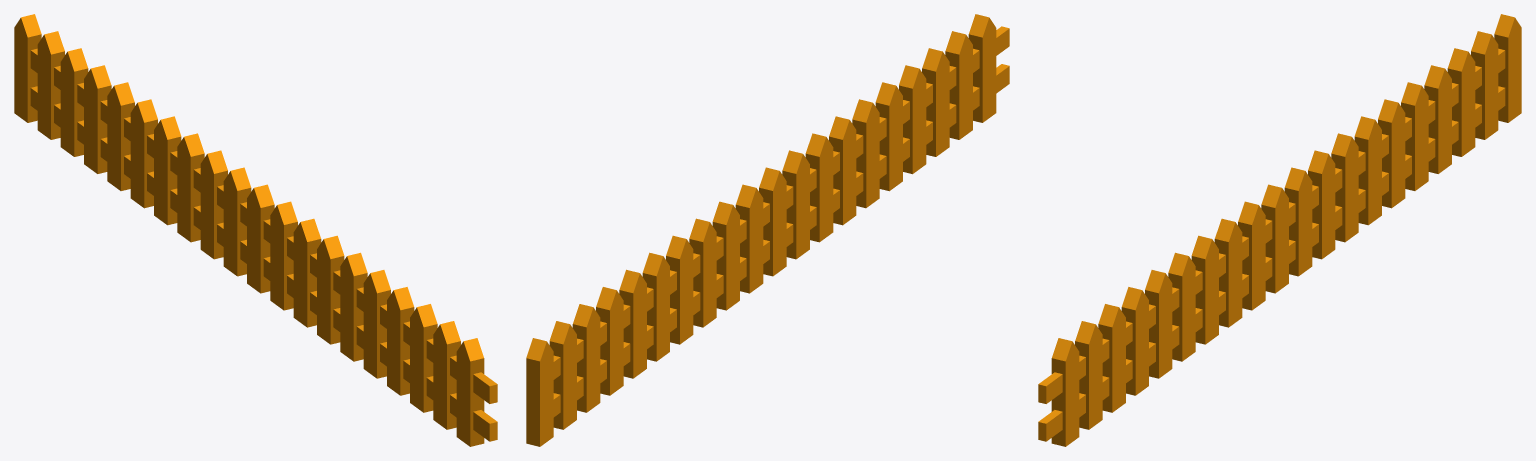
File: fence.fbx
The picture shows the model from 3 angles, left to right: view 1: azimuth 30°, elevation 25°; view 2: azimuth 150°, elevation 25°; view 3: azimuth 330°, elevation 25°; orthographic projection.
Visible parts, largest first — view 1: fence; view 2: fence; view 3: fence.
Part boxes in pixels (x1,y1,x2,y2): fence: (14, 14, 497, 446); fence: (526, 14, 1009, 446); fence: (1038, 14, 1521, 446).
Bounding box in the file's own units: 17.27 × 119 × 1015.
